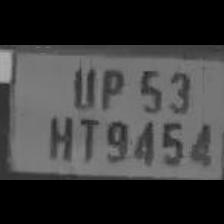3: (163, 64, 193, 112)
4: (186, 115, 212, 167), (129, 115, 155, 165)
5: (132, 64, 164, 112), (155, 113, 184, 165)
9: (100, 114, 128, 162)
H: (43, 109, 75, 161)
P: (97, 64, 127, 108)
T: (74, 112, 100, 162)
U: (66, 61, 98, 108)
